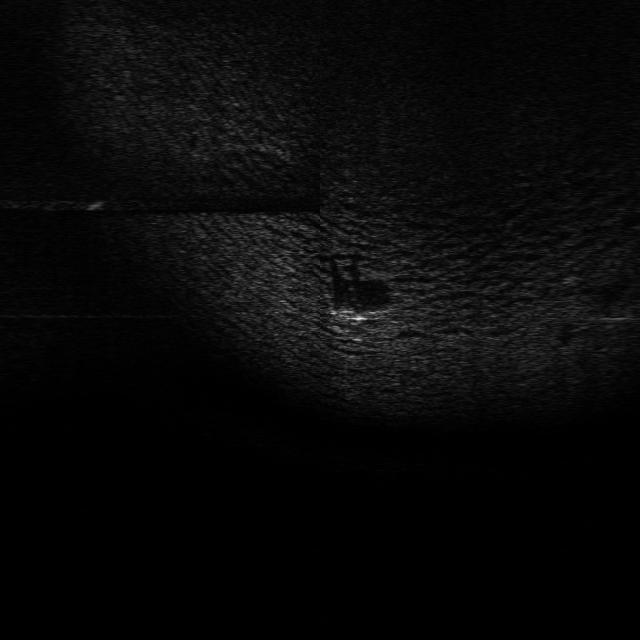plane: (329, 303, 393, 324)
